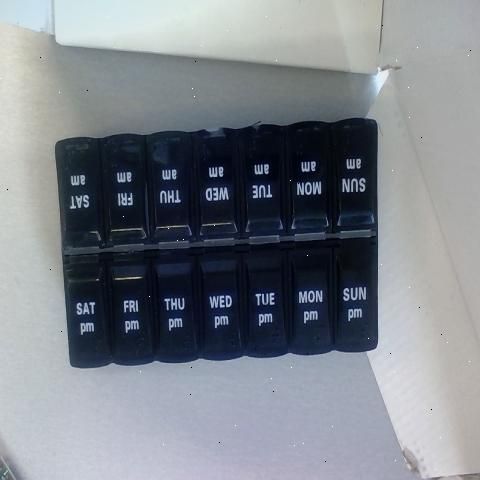FRI-am: (97, 138, 142, 253)
FRI-pm: (110, 255, 152, 364)
MON-am: (290, 123, 333, 239)
MON-pm: (289, 239, 331, 354)
SAT-am: (58, 148, 102, 241)
SAT-pm: (66, 264, 106, 370)
SUN-am: (334, 125, 373, 230)
SUN-pm: (334, 235, 376, 348)
THU-am: (146, 132, 190, 244)
THU-pm: (154, 253, 196, 364)
TUE-am: (245, 127, 289, 242)
TUE-pm: (242, 248, 287, 356)
WED-am: (192, 130, 238, 243)
WED-pm: (198, 252, 238, 359)
